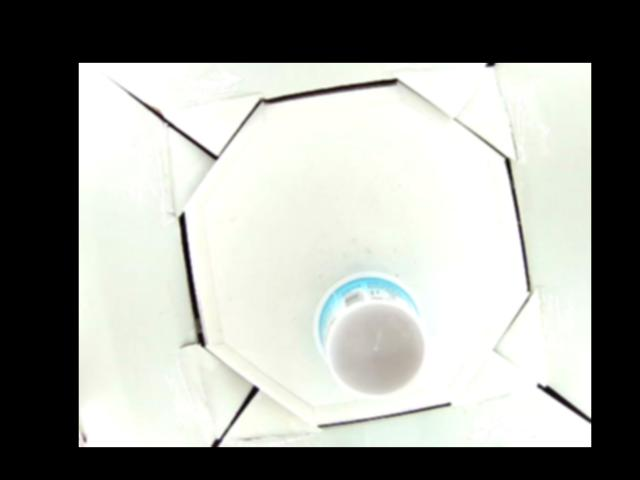Cup: (314, 271, 428, 396)
